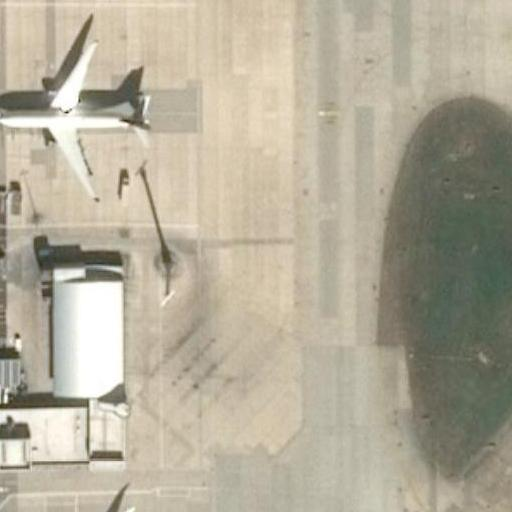Aircraft: (0, 27, 151, 193), (2, 506, 199, 512)
